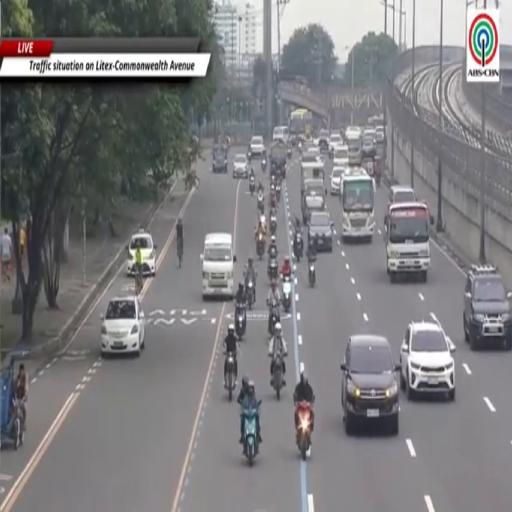bus: (289, 109, 312, 145)
car: (341, 334, 399, 435), (400, 322, 455, 401), (463, 265, 511, 349), (101, 297, 145, 356), (201, 233, 236, 299), (127, 229, 157, 277), (308, 211, 333, 251), (389, 185, 417, 204), (331, 167, 347, 195), (233, 154, 249, 179), (213, 144, 227, 172), (362, 131, 376, 157), (250, 136, 265, 157), (329, 133, 342, 157), (333, 146, 348, 166), (273, 126, 288, 145), (307, 147, 324, 163), (318, 130, 329, 152), (301, 140, 317, 153), (301, 153, 318, 164), (376, 125, 385, 143)
motorcycle: (242, 402, 261, 466), (297, 402, 312, 460), (225, 352, 236, 401), (273, 354, 283, 399), (235, 304, 246, 340), (268, 306, 279, 337), (282, 276, 291, 312), (293, 230, 303, 262), (256, 233, 265, 260), (246, 280, 254, 310), (268, 258, 278, 280), (257, 192, 264, 214), (309, 262, 315, 286), (270, 215, 277, 234), (249, 175, 255, 196), (375, 169, 381, 187), (269, 246, 277, 259), (270, 190, 276, 207), (276, 184, 281, 202), (261, 157, 267, 172), (287, 146, 292, 158), (247, 149, 251, 162), (298, 141, 302, 154)
tricycle: (0, 354, 25, 450)
truck: (384, 202, 434, 282), (340, 169, 375, 243), (301, 162, 326, 223), (301, 179, 326, 225), (301, 155, 324, 196), (345, 127, 362, 166), (269, 141, 286, 178), (213, 144, 227, 172)
